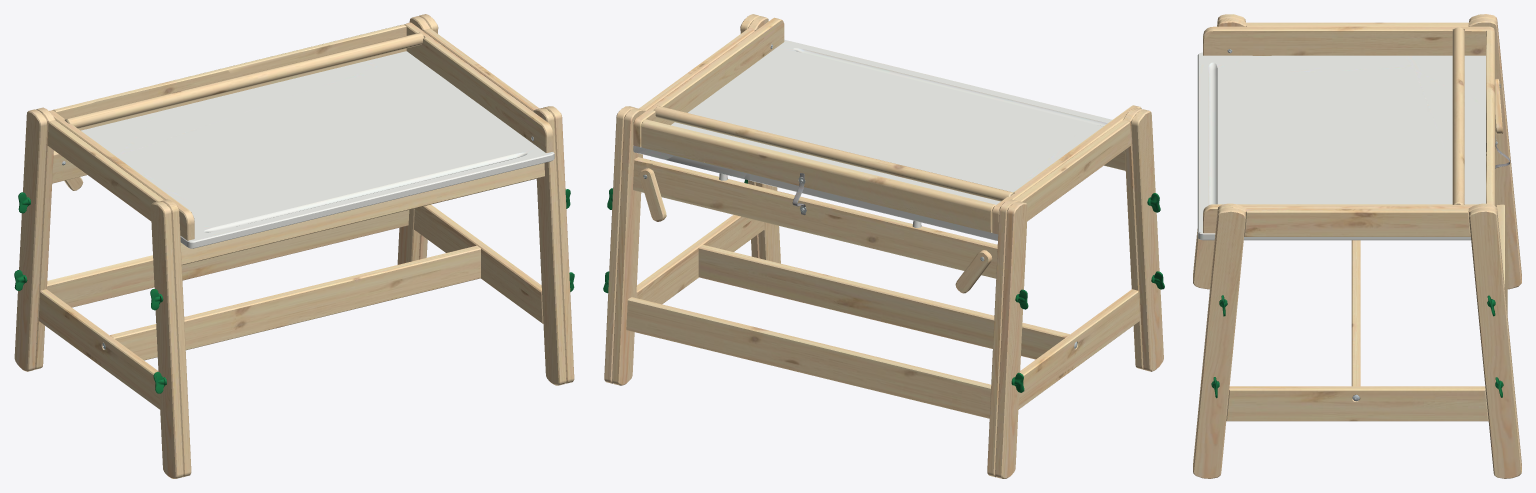
Rendered from flisat_biurko_dla_dziecka_30609181.glb.
3 views of the same model, side by side, from view 1: azimuth 30°, elevation 25°; view 2: azimuth 150°, elevation 25°; view 3: azimuth 270°, elevation 25° (orthographic).
Visible parts, largest first — view 1: flisat_biurko_dla_dziecka_30609181; view 2: flisat_biurko_dla_dziecka_30609181; view 3: flisat_biurko_dla_dziecka_30609181.
Part boxes in pixels (x1,y1,x2,y2): flisat_biurko_dla_dziecka_30609181: (14,14,574,478); flisat_biurko_dla_dziecka_30609181: (603,14,1164,478); flisat_biurko_dla_dziecka_30609181: (1193,14,1521,478).
Size of the model in its own units: 0.9711 by 0.5859 by 0.6499.
1 material, 1 textured.
